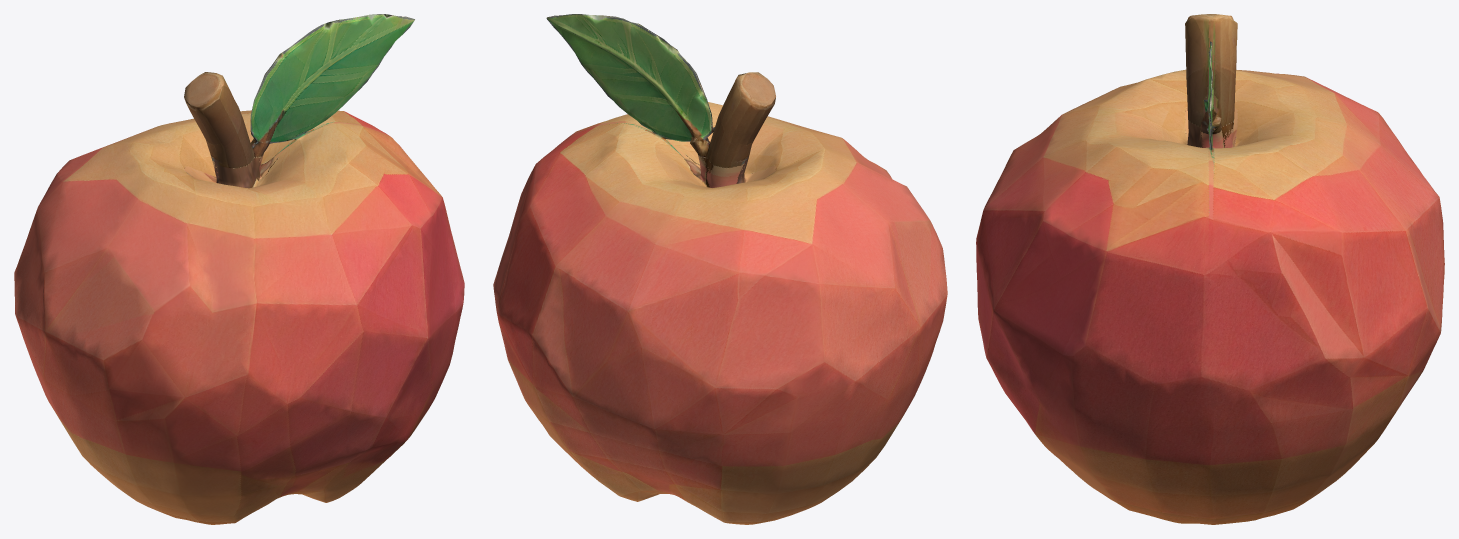
Rendered from Red Apple.fbx.
3 views of the same model, side by side, from view 1: azimuth 30°, elevation 25°; view 2: azimuth 150°, elevation 25°; view 3: azimuth 270°, elevation 25° (orthographic). The views are drawn at different scales.
Parts seen in each view (by area): view 1: texture_mapping; view 2: texture_mapping; view 3: texture_mapping.
Boxes of the visible parts, x1,y1,x2,y2 form: texture_mapping: (14,14,464,524); texture_mapping: (493,14,947,524); texture_mapping: (976,14,1444,524).
Size of the model in its own units: 0.928 by 0.8806 by 1.
1 material, 1 textured.
